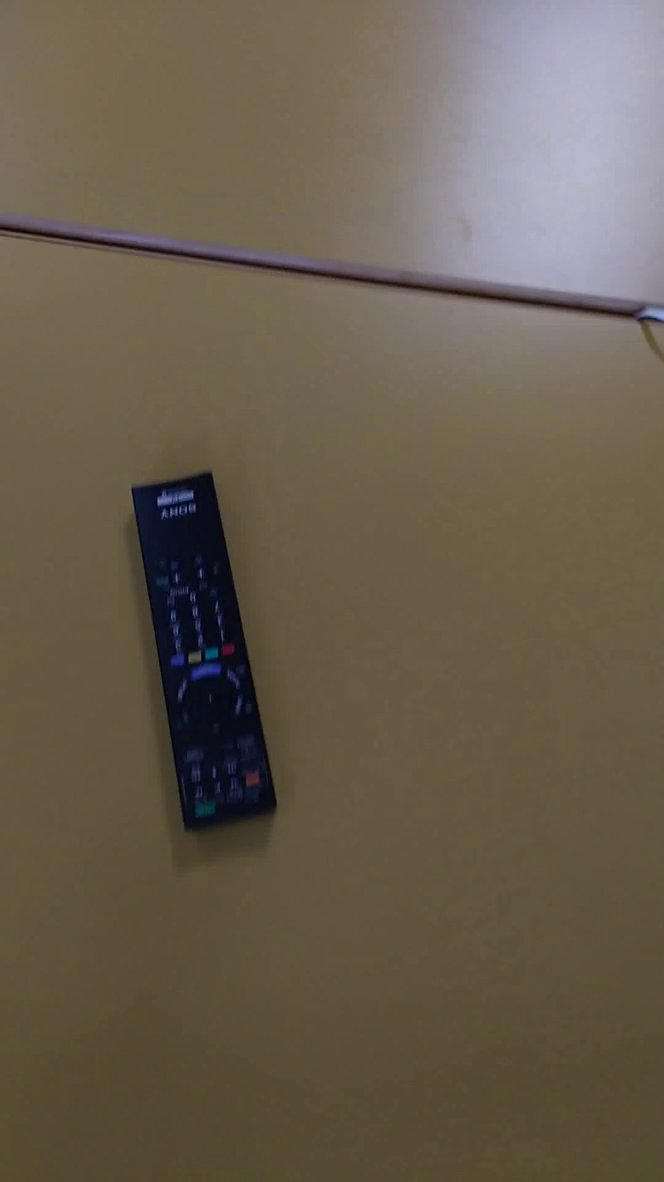remote: (118, 458, 310, 861)
